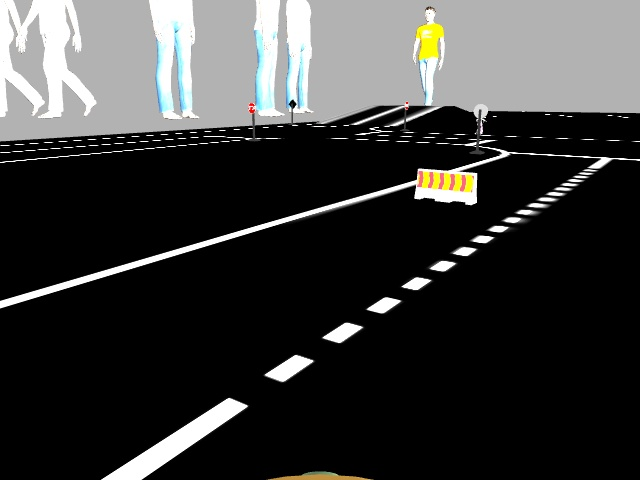ClosedRoadStand: (419, 167, 476, 201)
